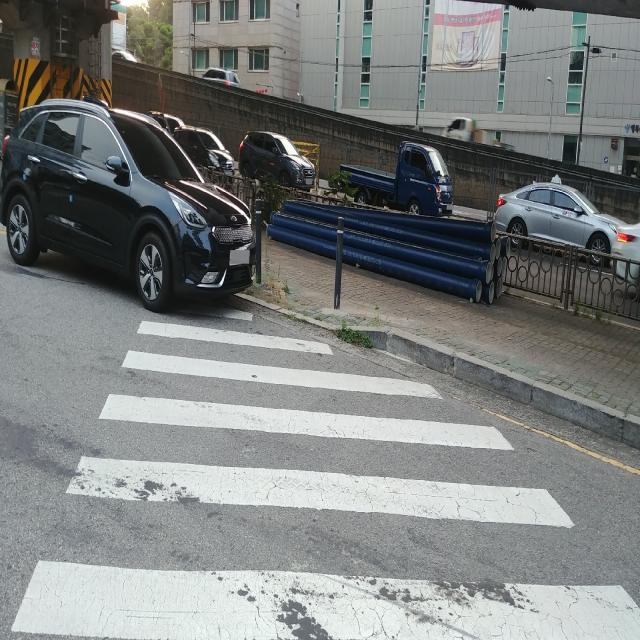횡단보도: (9, 307, 640, 640)
